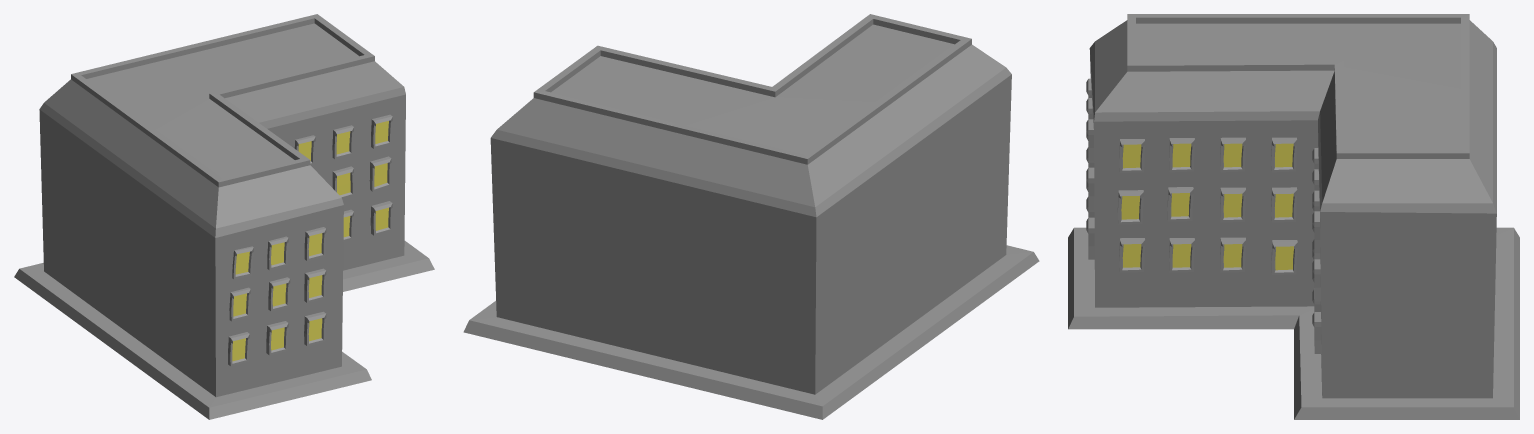
The model's file is SM_Building_BG_01.fbx.
3 views of the same model, side by side, from view 1: azimuth 30°, elevation 25°; view 2: azimuth 150°, elevation 25°; view 3: azimuth 270°, elevation 25° (orthographic). The views are drawn at different scales.
Parts seen in each view (by area): view 1: SM_BG_Building_01; view 2: SM_BG_Building_01; view 3: SM_BG_Building_01.
Boxes of the visible parts, x1,y1,x2,y2 form: SM_BG_Building_01: [14, 14, 434, 419]; SM_BG_Building_01: [463, 14, 1039, 419]; SM_BG_Building_01: [1068, 14, 1519, 419].
Size of the model in its own units: 650 by 680 by 405.
